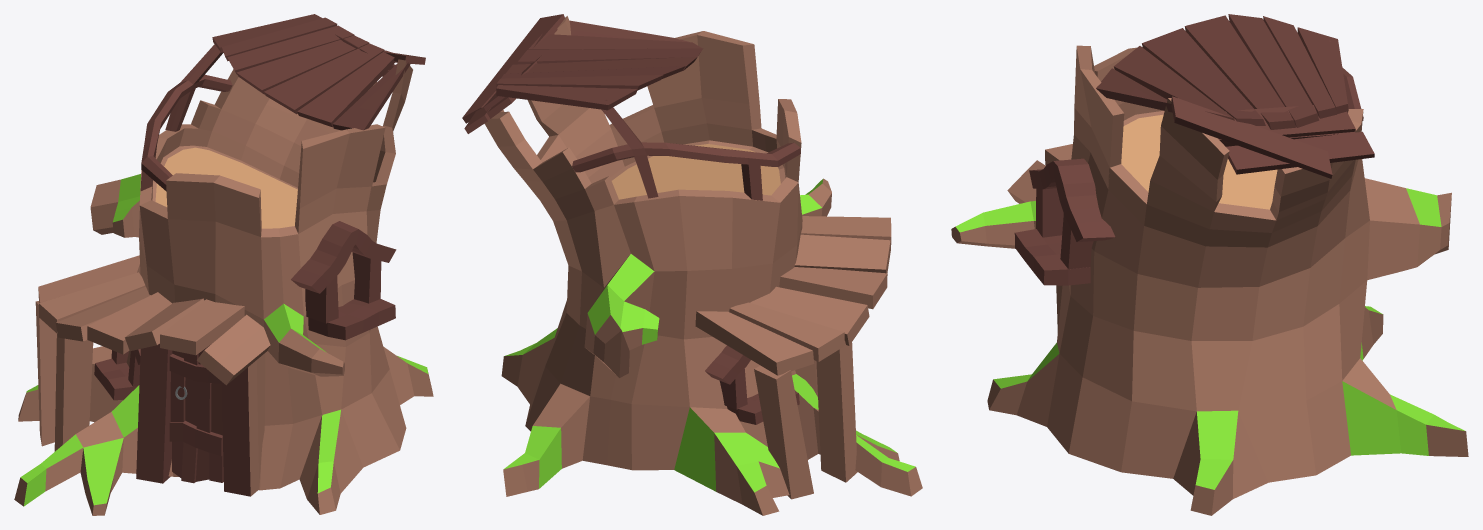
Rendered from TreeHouse02.fbx.
The picture shows the model from 3 angles, left to right: view 1: azimuth 30°, elevation 25°; view 2: azimuth 150°, elevation 25°; view 3: azimuth 270°, elevation 25°; orthographic projection. The views are drawn at different scales.
Parts seen in each view (by area): view 1: Cube.022; view 2: Cube.022; view 3: Cube.022.
Boxes of the visible parts, x1,y1,x2,y2 form: Cube.022: (14, 14, 433, 515); Cube.022: (462, 14, 922, 515); Cube.022: (951, 14, 1468, 515).
Size of the model in its own units: 683 by 597 by 667.
